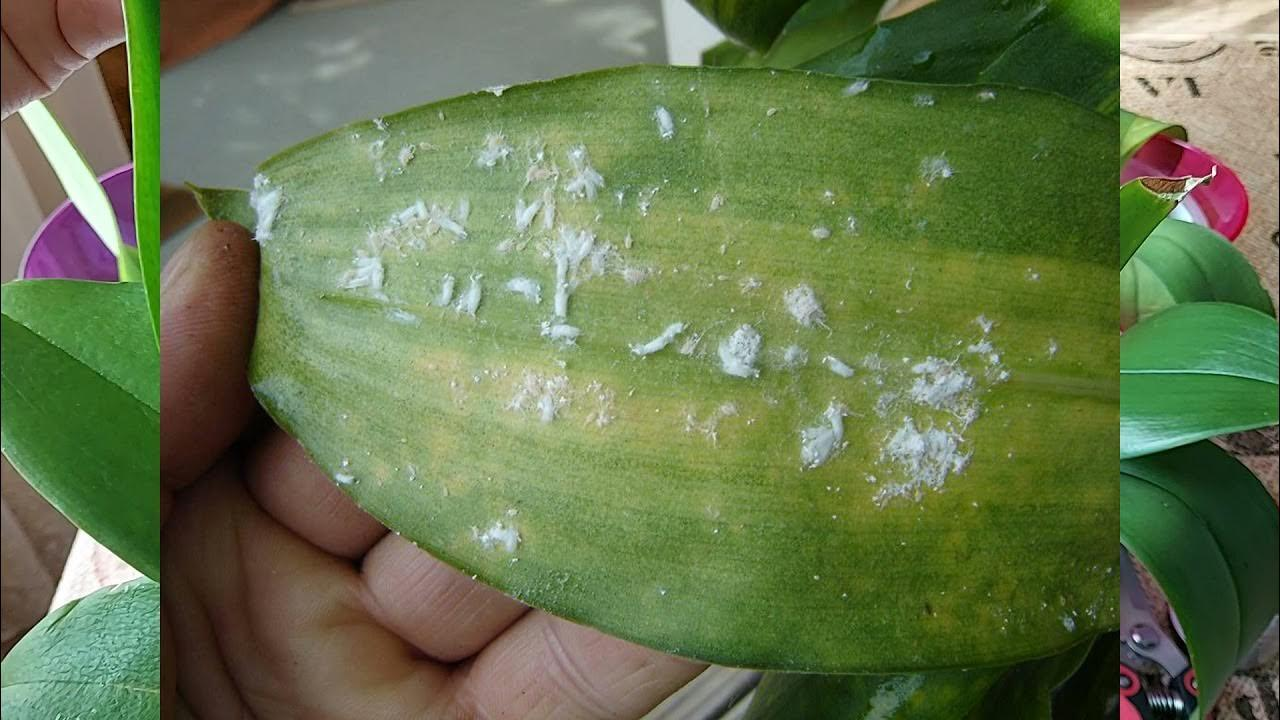pseudococcidae: (250, 75, 1102, 581)
